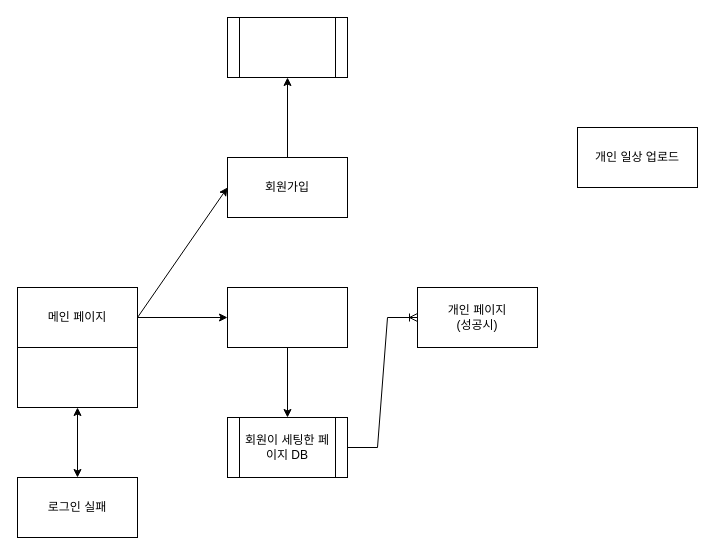
The diagram is 715 pixels wide and 555 high, and some of its shapes have lost their labels. Each missing label, with the centre of its shape:
"로그인" goes at pixel 77 377.
"로그인 성공" goes at pixel 287 317.
"회원 아이디 비밀번호 DB" goes at pixel 287 47.
